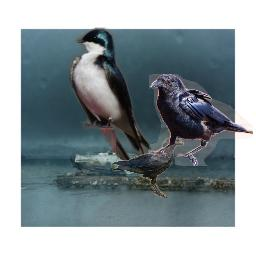Crow: (148, 74, 253, 166), (112, 138, 184, 198)
Swallow: (68, 27, 152, 163)
